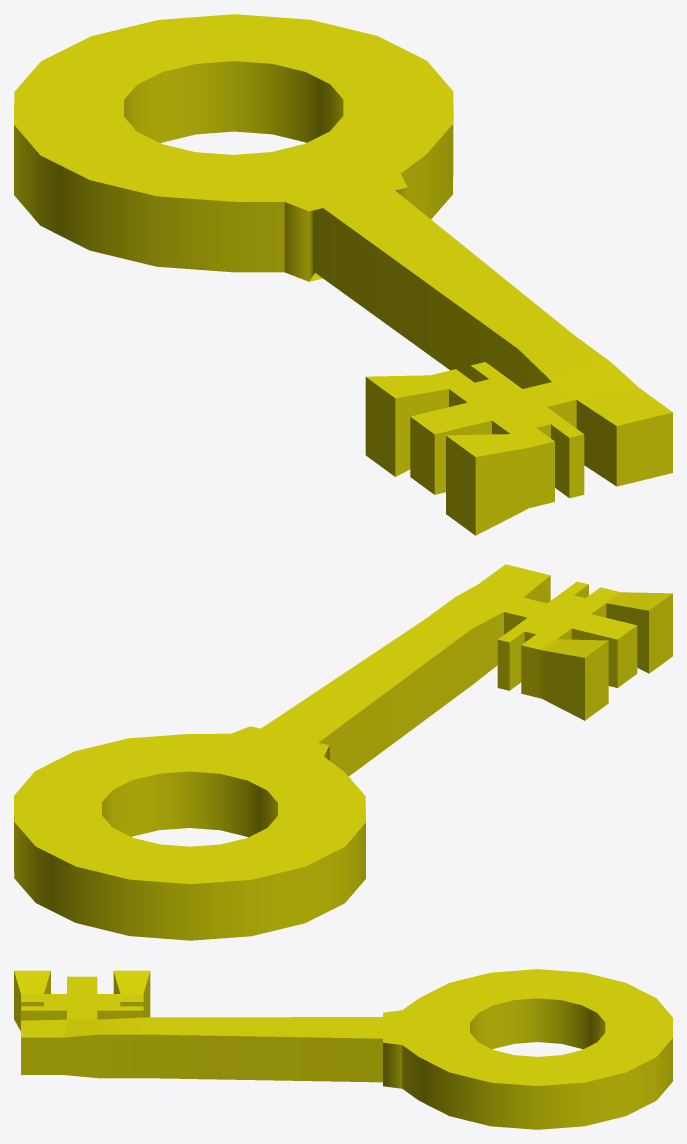
Rendered from mod_prop_key.fbx.
3 renders of one model, top to bottom at view 1: azimuth 30°, elevation 25°; view 2: azimuth 150°, elevation 25°; view 3: azimuth 270°, elevation 25°, orthographic. The views are drawn at different scales.
Parts seen in each view (by area): view 1: pPipe1; view 2: pPipe1; view 3: pPipe1.
Boxes of the visible parts, <box> form: pPipe1: <box>14,14,672,535</box>; pPipe1: <box>14,564,672,940</box>; pPipe1: <box>14,969,672,1129</box>.
Bounding box in the file's own units: 5.5 × 1.07 × 13.1.
